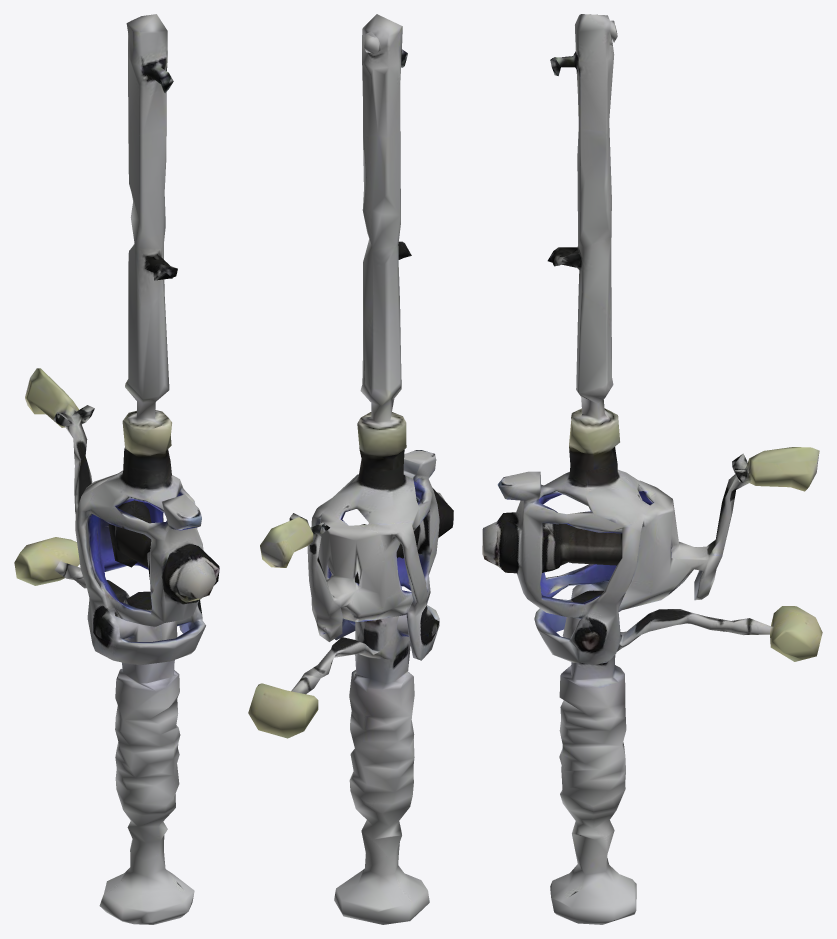
File: rodSilver.glb
3 views of the same model, side by side, from view 1: azimuth 30°, elevation 25°; view 2: azimuth 150°, elevation 25°; view 3: azimuth 270°, elevation 25° (orthographic).
Parts seen in each view (by area): view 1: tripo_node_498f6ce0-5b10-4545-ab34-abb4c86f8d5d; view 2: tripo_node_498f6ce0-5b10-4545-ab34-abb4c86f8d5d; view 3: tripo_node_498f6ce0-5b10-4545-ab34-abb4c86f8d5d.
Boxes of the visible parts, <box> form: tripo_node_498f6ce0-5b10-4545-ab34-abb4c86f8d5d: <box>14,14,219,924</box>; tripo_node_498f6ce0-5b10-4545-ab34-abb4c86f8d5d: <box>248,14,453,924</box>; tripo_node_498f6ce0-5b10-4545-ab34-abb4c86f8d5d: <box>482,14,822,924</box>.
Size of the model in its own units: 0.1228 by 1 by 0.3436.
1 material, 1 textured.
